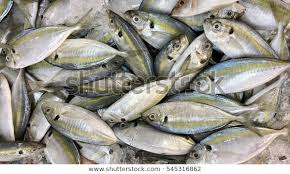Ikan Selar: (138, 101, 264, 135), (200, 15, 283, 64), (102, 8, 155, 84), (3, 24, 89, 70), (36, 102, 119, 148)
